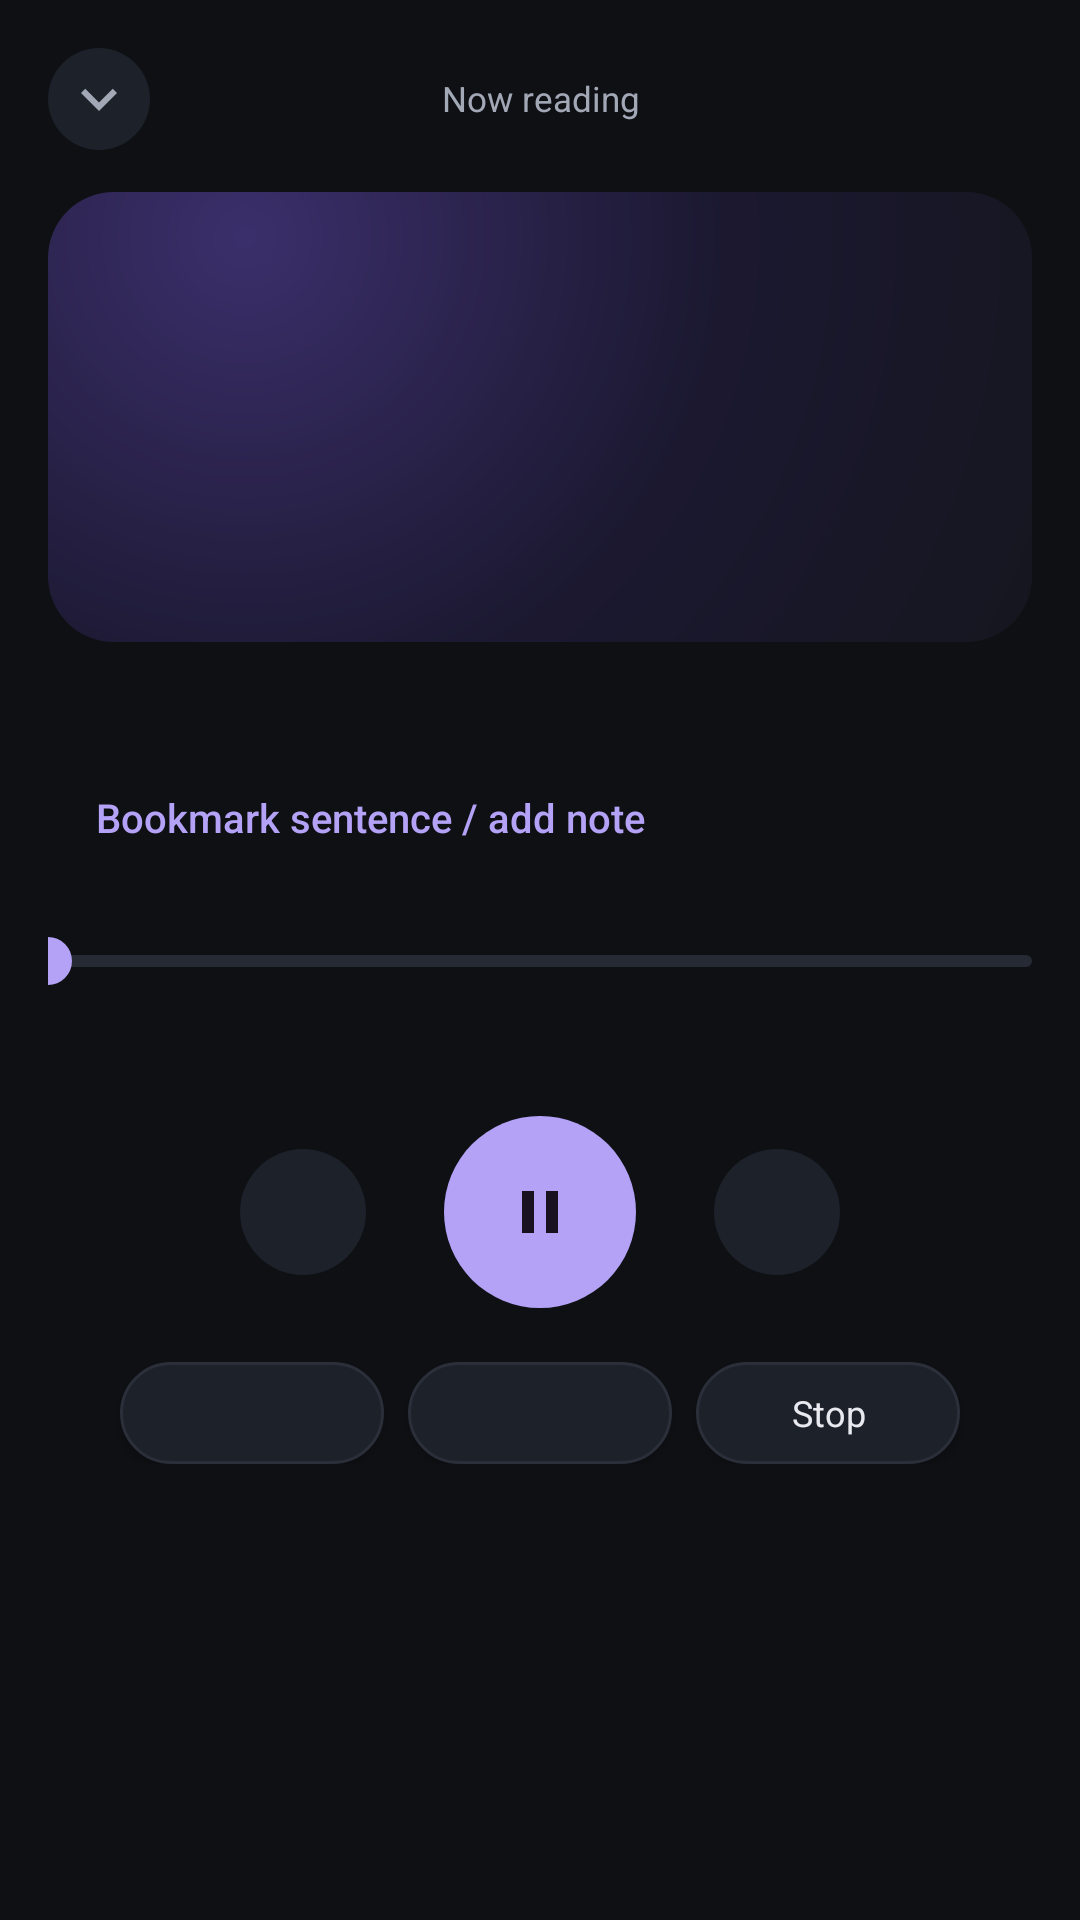

Icons on this 1080 × 1920 Android screen, each with the point to tap as (x,y):
Close: (99,99)
Play or pause: (540,1212)
